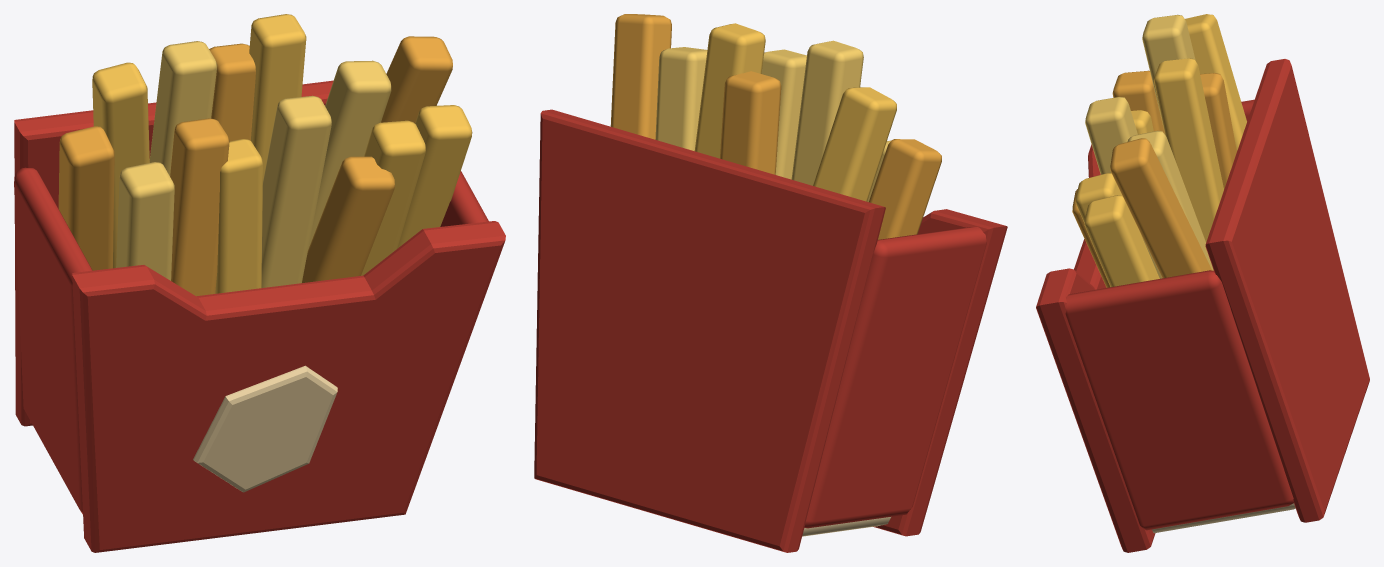
File: fries.glb
3 renders of one model, left to right at view 1: azimuth 30°, elevation 25°; view 2: azimuth 150°, elevation 25°; view 3: azimuth 270°, elevation 25°, orthographic. The views are drawn at different scales.
Parts seen in each view (by area): view 1: fries; view 2: fries; view 3: fries.
Part boxes in pixels (x1,y1,x2,y2): fries: [14, 14, 505, 552]; fries: [534, 14, 1007, 552]; fries: [1036, 14, 1369, 552].
Bounding box in the file's own units: 0.816 × 0.9297 × 0.6292.
